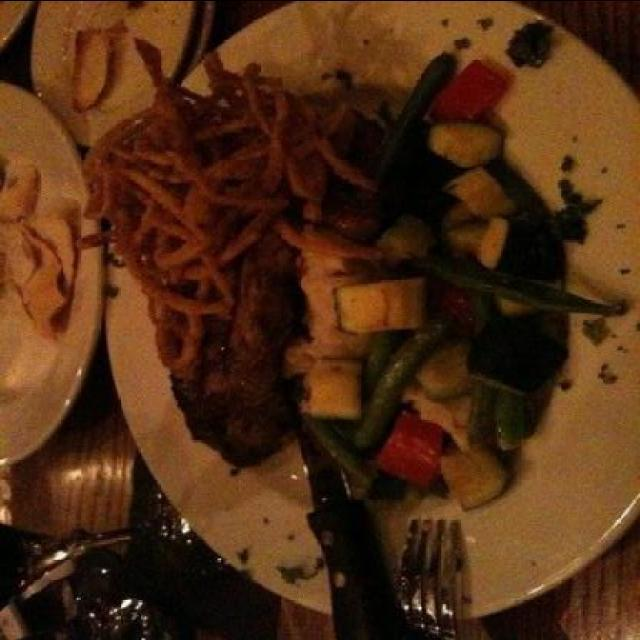Steak: (116, 42, 568, 522)
